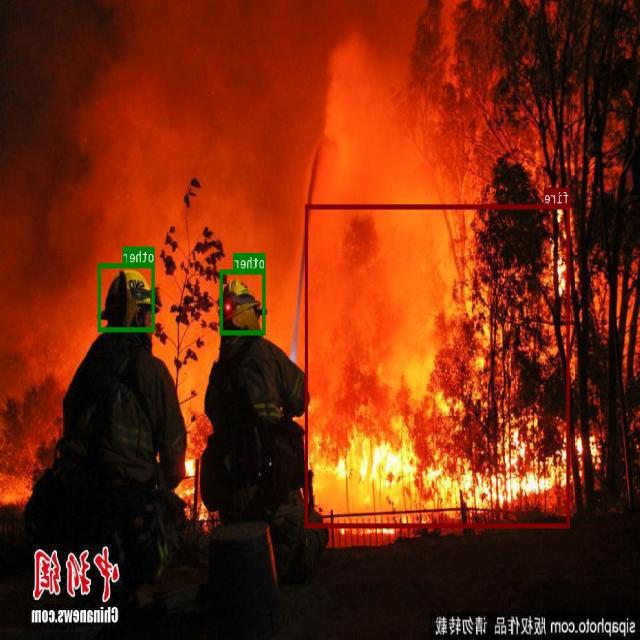fire: (306, 204, 570, 527)
other: (98, 263, 156, 331), (220, 269, 266, 334)
